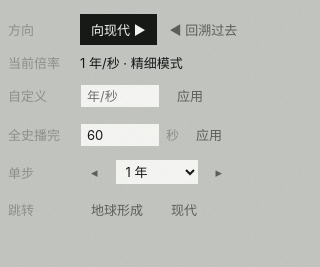
it: PlaybackSettings › computes the rate from a whole-history duration and keeps the time
Step 1. Replace the text in the number field with test id "target-seconds" with "120" → (120, 134), box [80,122,160,146]
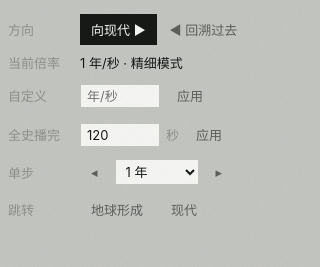
Step 2. Click the button with test id "apply-target" → (209, 134), box [185,119,233,150]
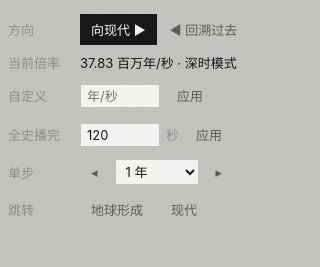
Step 3. Replace the text in the number field with test id "target-seconds" with "0" → (120, 134), box [80,122,160,146]
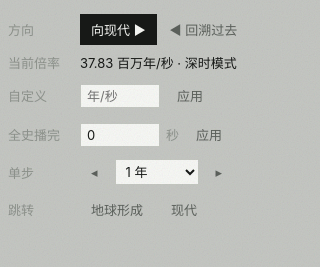
Step 4. Click the button with test id "apply-target" → (209, 134), box [185,119,233,150]
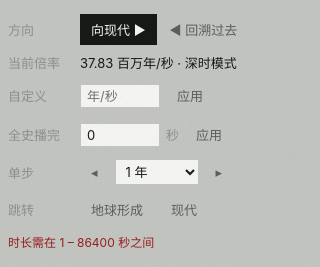
Result: the message with test id "playback-error" shows "时长" at [8,235,154,250]
